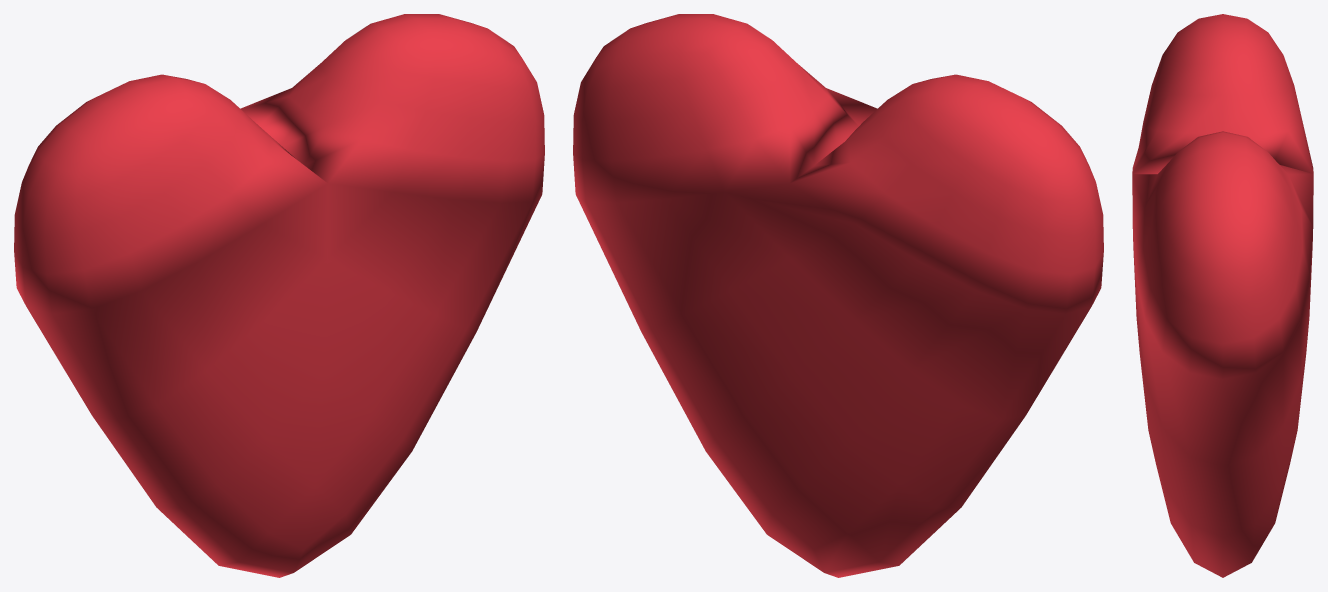
Rendered from corazon.glb.
3 views of the same model, side by side, from view 1: azimuth 30°, elevation 25°; view 2: azimuth 150°, elevation 25°; view 3: azimuth 270°, elevation 25° (orthographic). The views are drawn at different scales.
Parts seen in each view (by area): view 1: Corazon; view 2: Corazon; view 3: Corazon.
Part boxes in pixels (x1,y1,x2,y2): Corazon: [14, 14, 544, 577]; Corazon: [573, 14, 1103, 577]; Corazon: [1132, 14, 1313, 577].
Size of the model in its own units: 1.02 by 1 by 0.3349.
